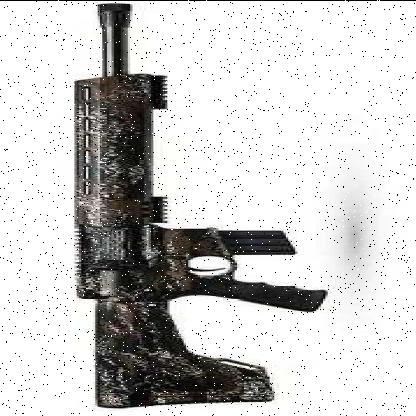rifle: (46, 3, 400, 414)
